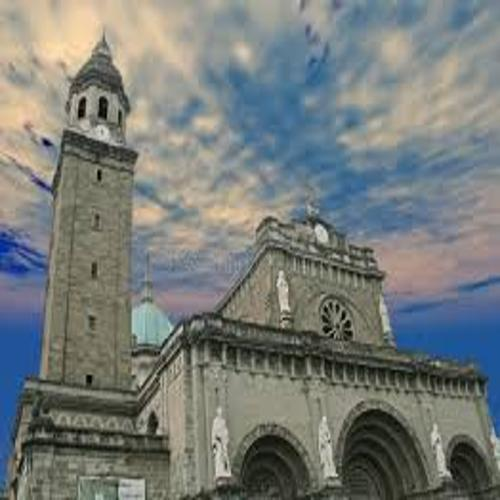Manila Cathedral Church: (11, 19, 499, 497)
